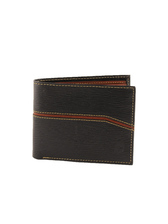other: (32, 77, 135, 167)
